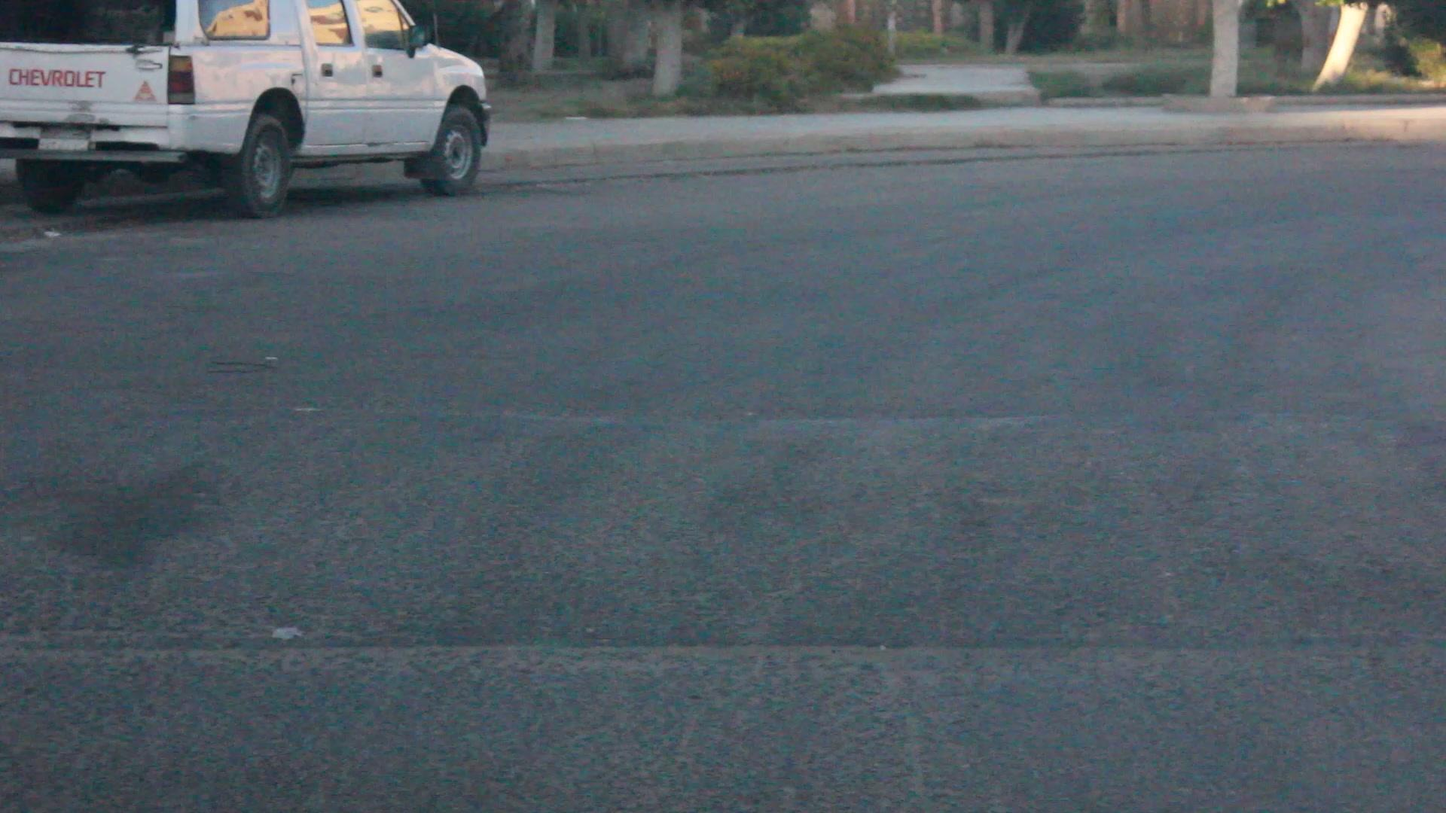Bump: (0, 401, 1445, 649)
